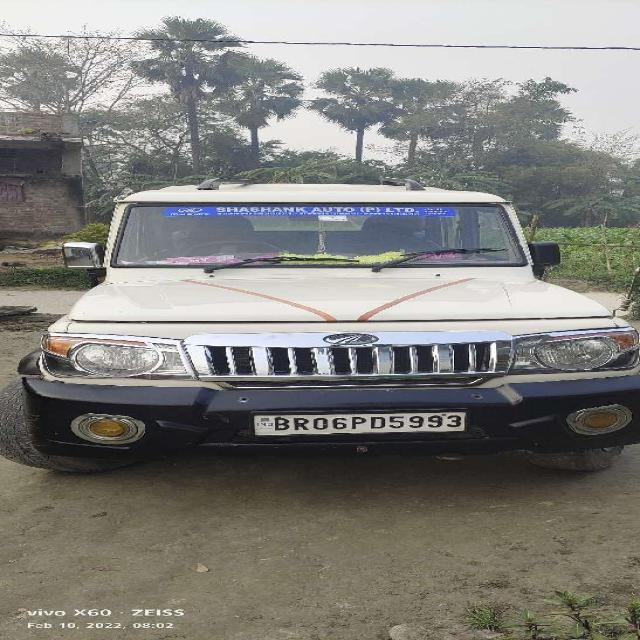light_vehicle: (21, 196, 639, 454)
